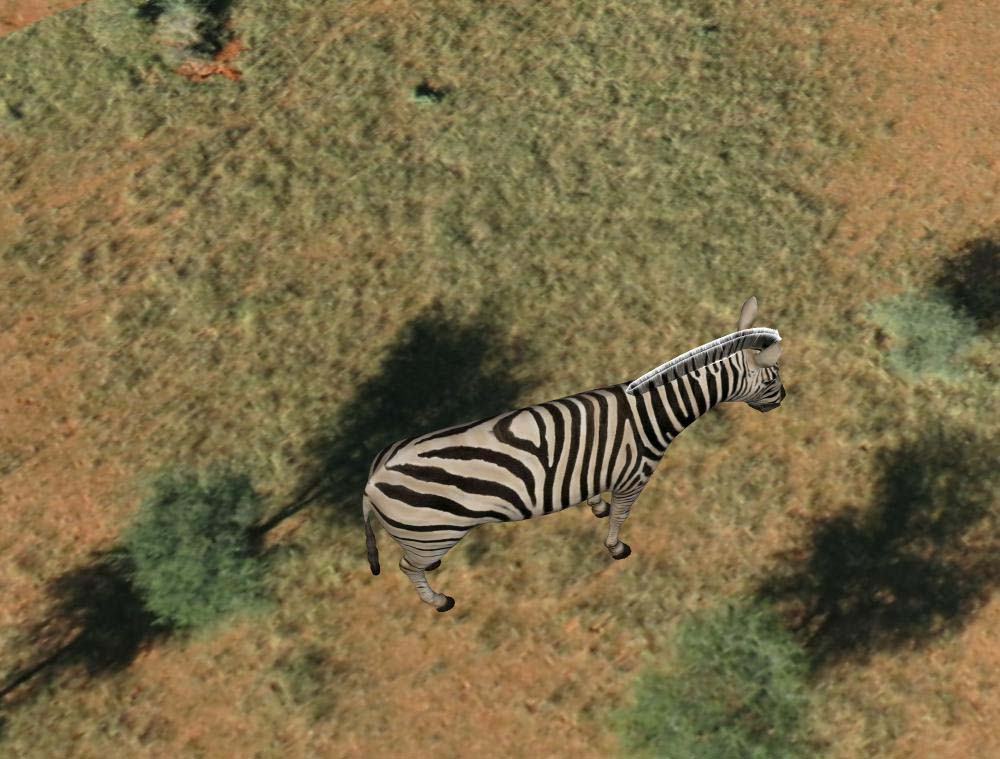zebra: (356, 318, 786, 616)
